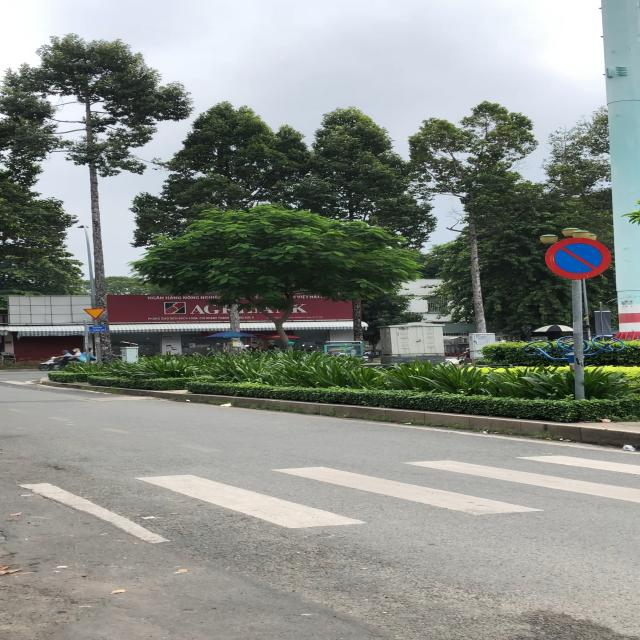Bien bao cam do xe: (540, 236, 622, 282)
Bien bao giao nhau voi duong uu tien: (82, 308, 108, 320)
